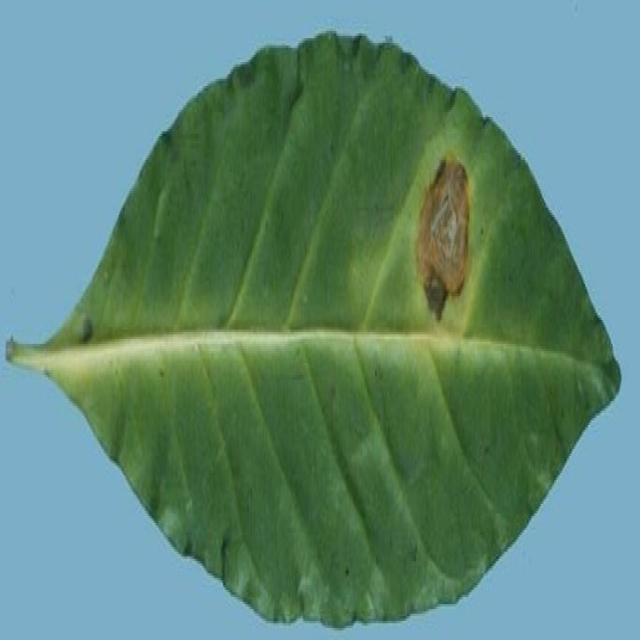Enfermedad-Mancha-de-hierro: (5, 31, 622, 630)
